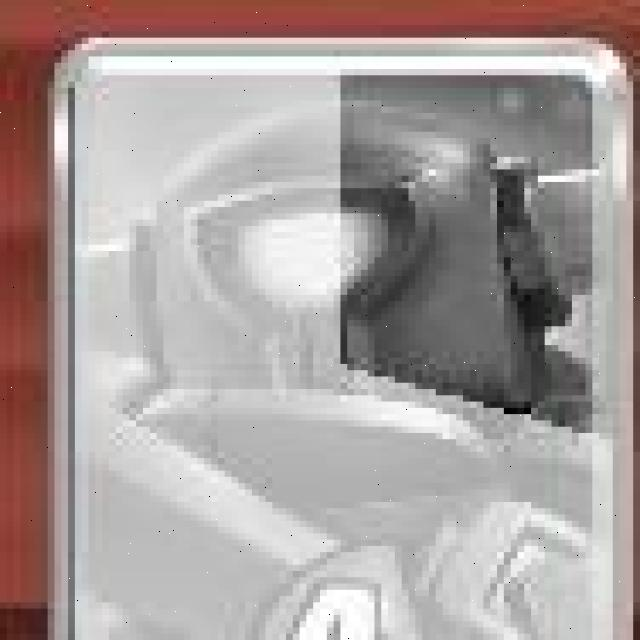Mini_Pekka: (46, 39, 633, 640)
